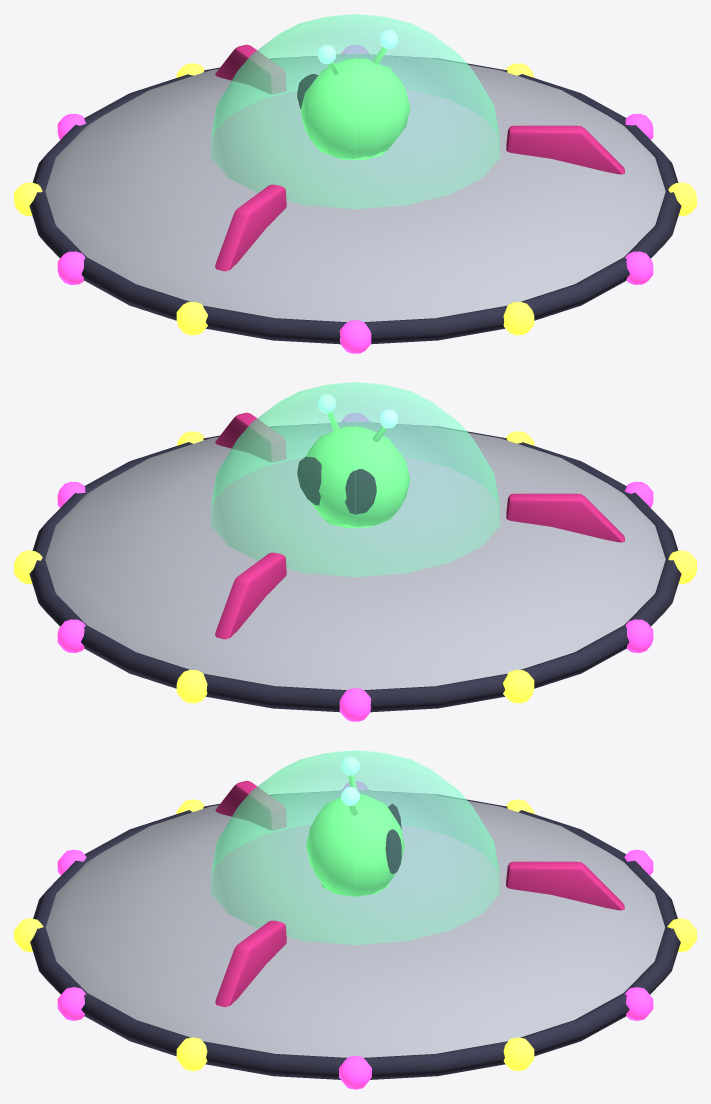
The model's file is ufo.glb.
3 views of the same model, one above another, from view 1: azimuth 30°, elevation 25°; view 2: azimuth 150°, elevation 25°; view 3: azimuth 270°, elevation 25° (orthographic).
Parts seen in each view (by area): view 1: Hull, Dome, AlienMesh, LightRingMesh; view 2: Hull, Dome, AlienMesh, LightRingMesh; view 3: Hull, Dome, AlienMesh, LightRingMesh.
Boxes of the visible parts, x1,y1,x2,y2 form: Hull: (29,44,681,344); Dome: (211,14,499,209); AlienMesh: (297,30,410,160); LightRingMesh: (14,45,696,353); Hull: (29,412,681,712); Dome: (211,382,499,577); AlienMesh: (297,394,410,528); LightRingMesh: (14,413,696,721); Hull: (30,780,680,1079); Dome: (211,750,499,945); AlienMesh: (306,756,404,896); LightRingMesh: (14,781,696,1089).
Bounding box in the file's own units: 2.77 × 1.17 × 2.77.
